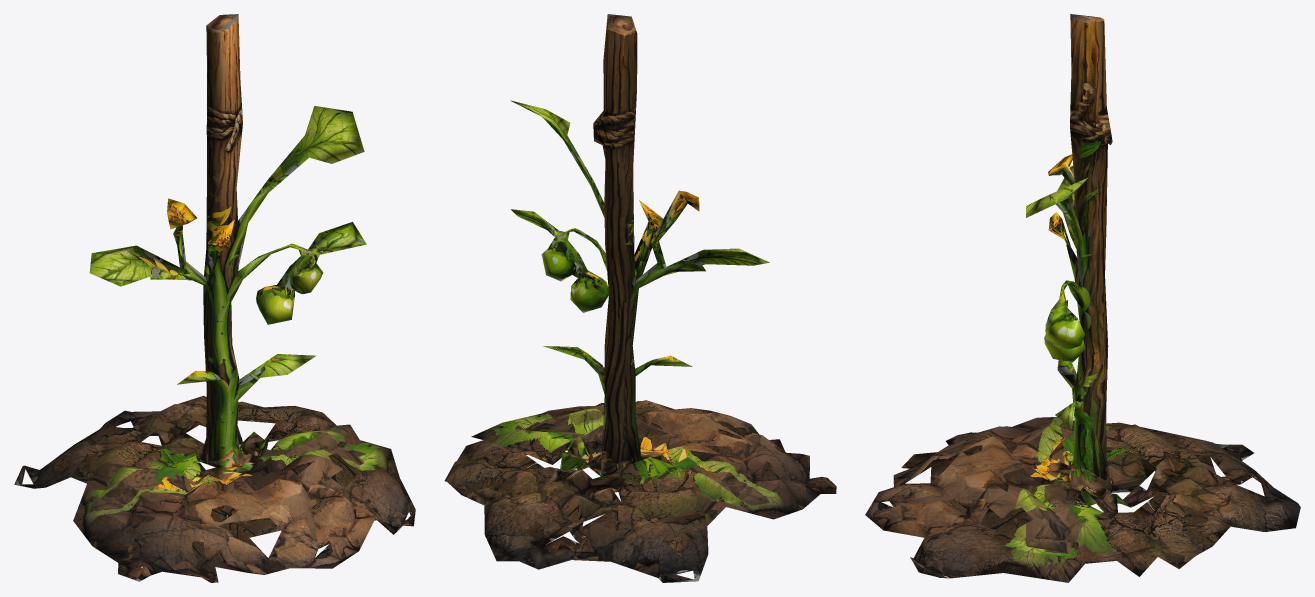
Rendered from Crop_Tomato_Growing.fbx.
3 views of the same model, side by side, from view 1: azimuth 30°, elevation 25°; view 2: azimuth 150°, elevation 25°; view 3: azimuth 270°, elevation 25° (orthographic). The views are drawn at different scales.
Parts seen in each view (by area): view 1: texture_mapping; view 2: texture_mapping; view 3: texture_mapping.
Part boxes in pixels (x1,y1,x2,y2): texture_mapping: [14, 14, 415, 582]; texture_mapping: [444, 14, 836, 582]; texture_mapping: [865, 14, 1300, 582].
Size of the model in its own units: 0.7007 by 0.7851 by 1.01.
1 material, 1 textured.
